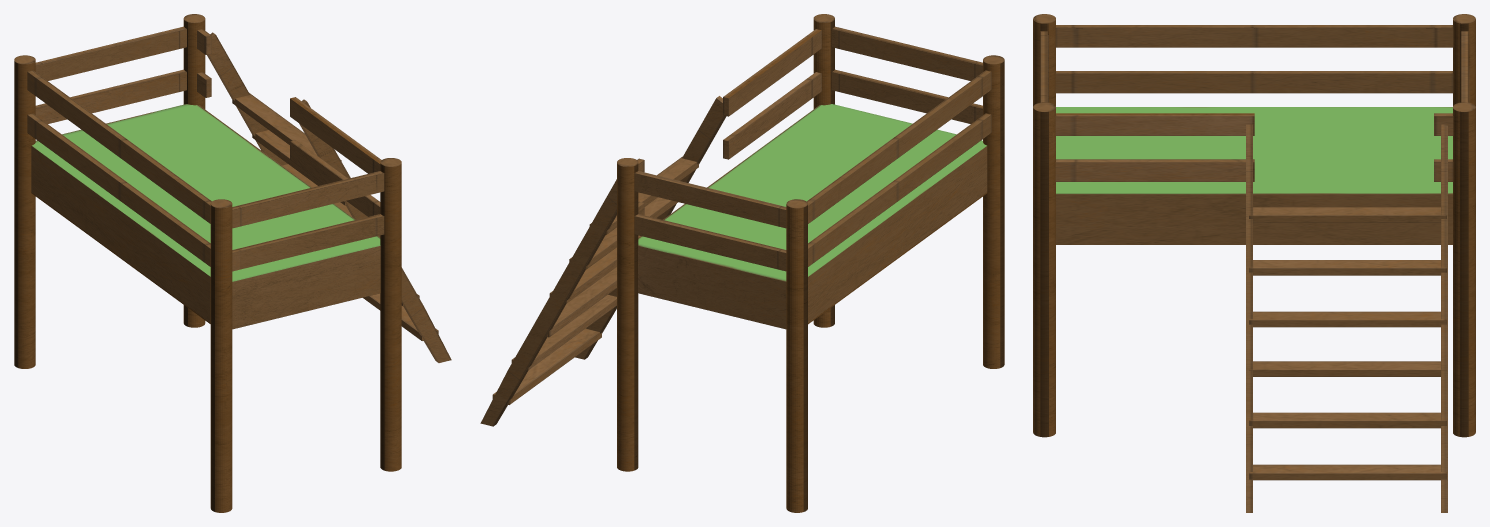
The model's file is Bett_Kobold_V2.fbx.
3 renders of one model, left to right at view 1: azimuth 30°, elevation 25°; view 2: azimuth 150°, elevation 25°; view 3: azimuth 270°, elevation 25°, orthographic. The views are drawn at different scales.
Parts seen in each view (by area): view 1: Cube; view 2: Cube; view 3: Cube.
Part boxes in pixels (left/top/right/bottom): Cube: left=14, top=14, right=451, bottom=512; Cube: left=480, top=14, right=1004, bottom=512; Cube: left=1033, top=14, right=1475, bottom=512.
Bounding box in the file's own units: 399 × 348 × 429.
